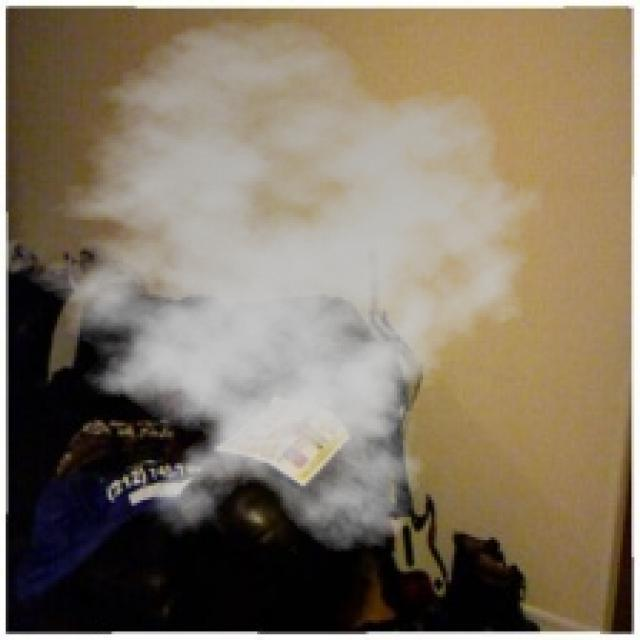Smoke: (2, 17, 558, 554)
